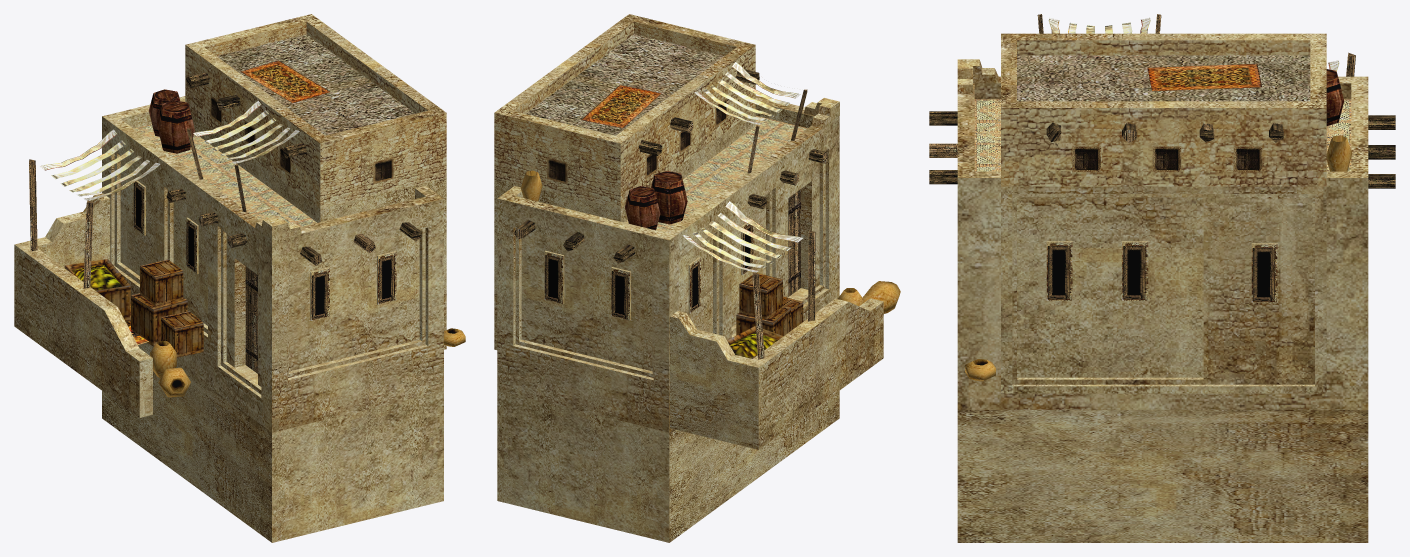
File: pers_house_c.dae
3 renders of one model, left to right at view 1: azimuth 30°, elevation 25°; view 2: azimuth 150°, elevation 25°; view 3: azimuth 270°, elevation 25°, orthographic. The views are drawn at different scales.
Parts seen in each view (by area): view 1: HouseC; view 2: HouseC; view 3: HouseC.
Boxes of the visible parts, x1,y1,x2,y2 form: HouseC: (14, 14, 465, 542); HouseC: (494, 14, 900, 542); HouseC: (929, 14, 1395, 542).
Bounding box in the file's own units: 13.35 × 15.3 × 16.18.
